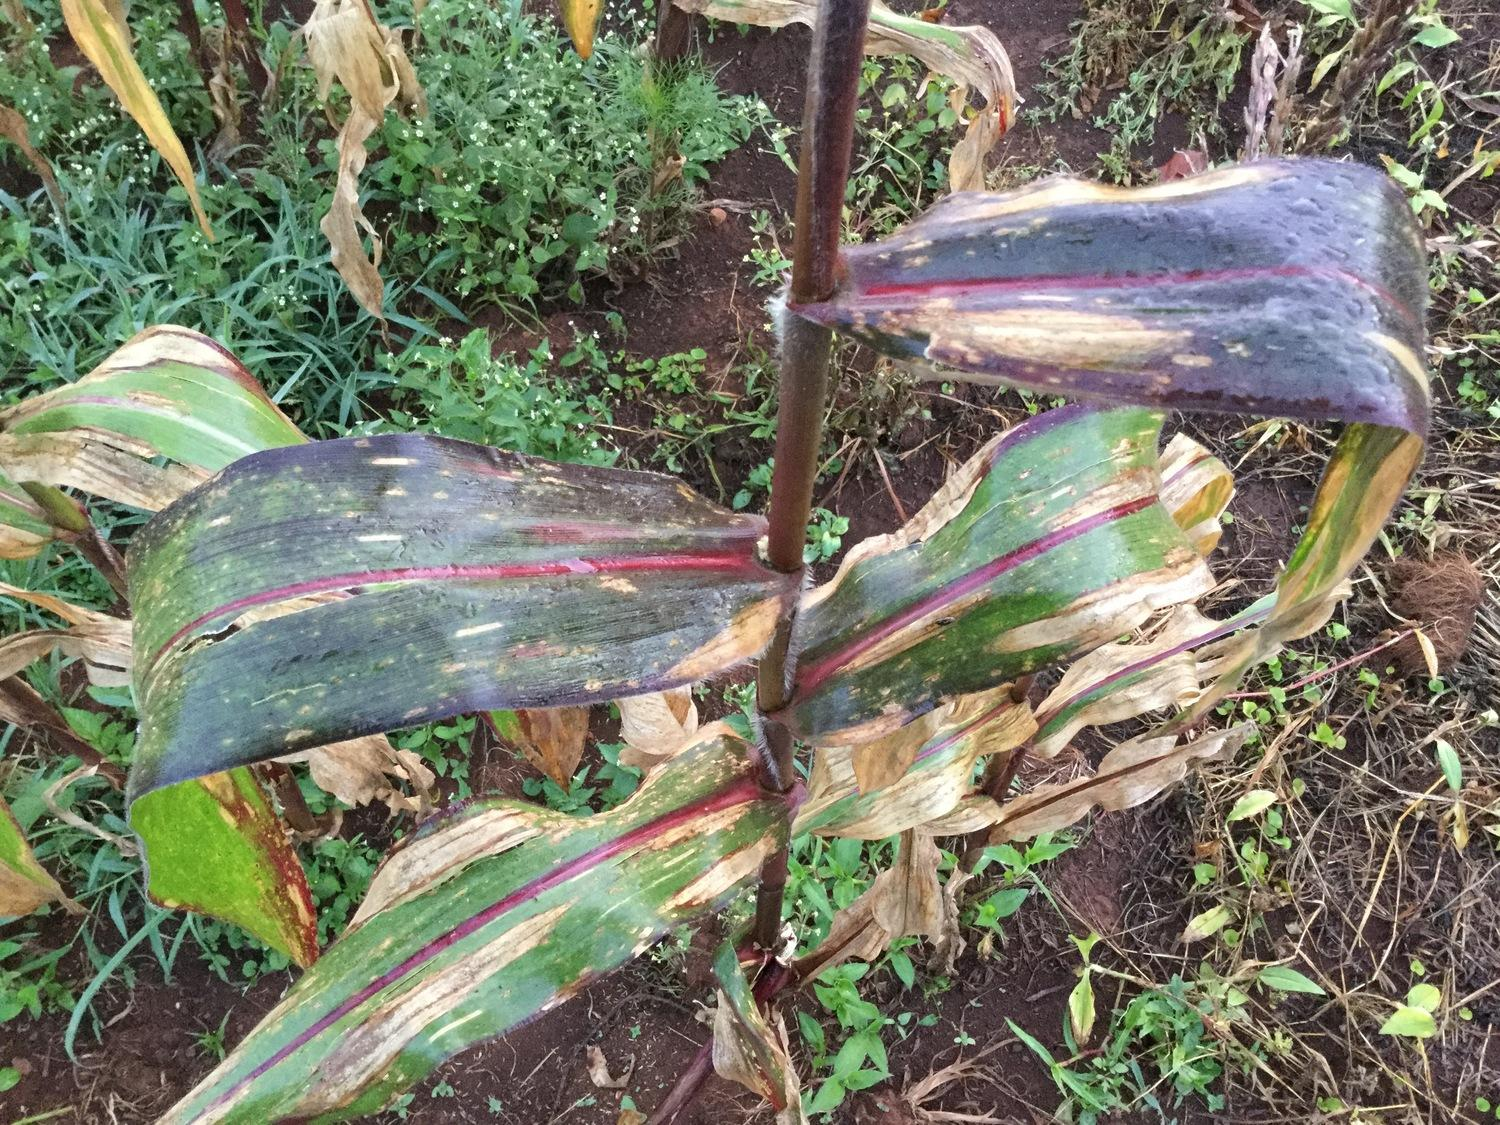Corn leaf blight: (44, 425, 780, 999), (104, 718, 758, 1125), (852, 183, 1444, 627), (820, 379, 1316, 773)
